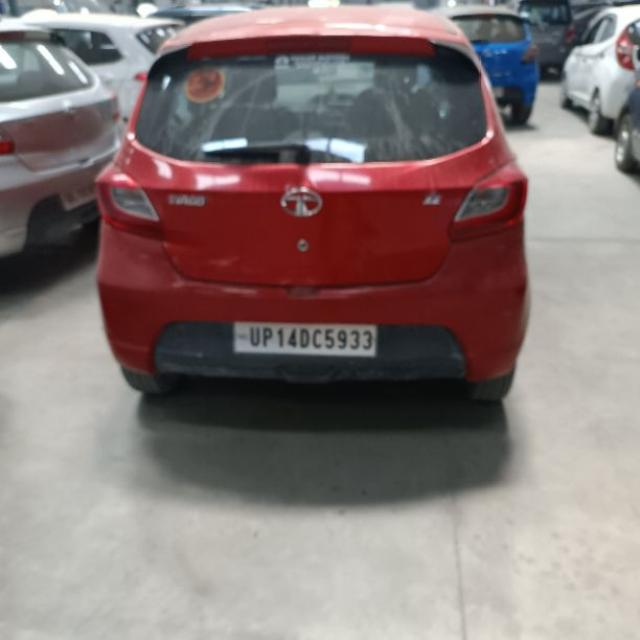license_plate: (230, 320, 379, 358)
